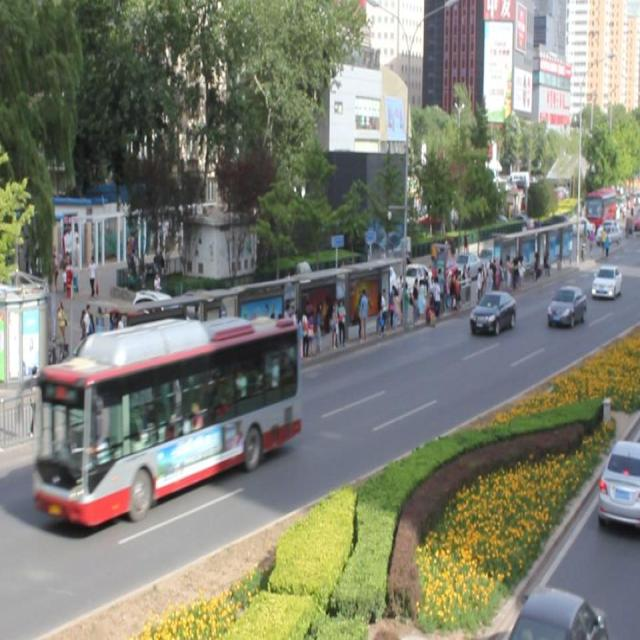car: (469, 288, 514, 338), (547, 286, 585, 327), (589, 263, 621, 300)
van: (36, 314, 297, 526)
